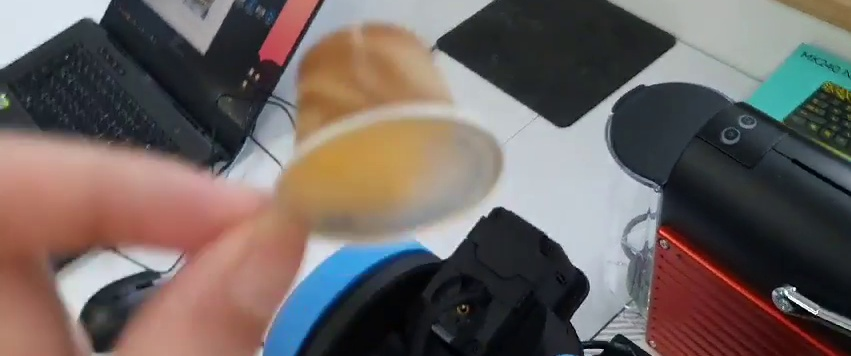capsule_12: (279, 20, 506, 235)
